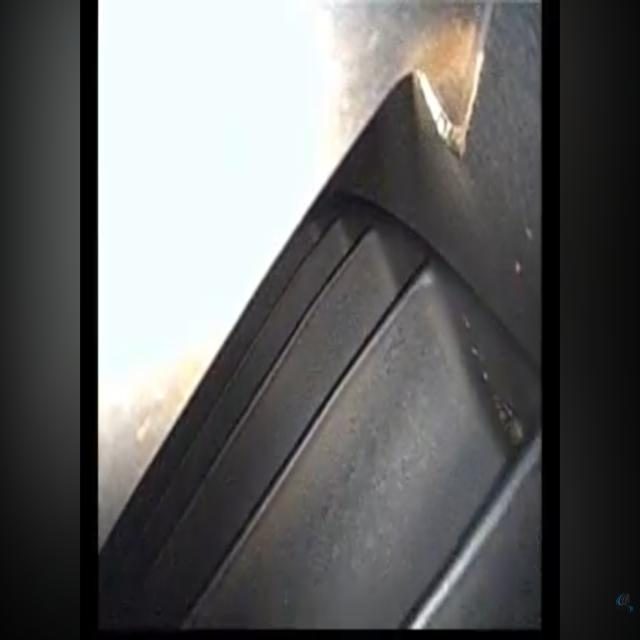turbine_blade: (185, 268, 511, 625)
